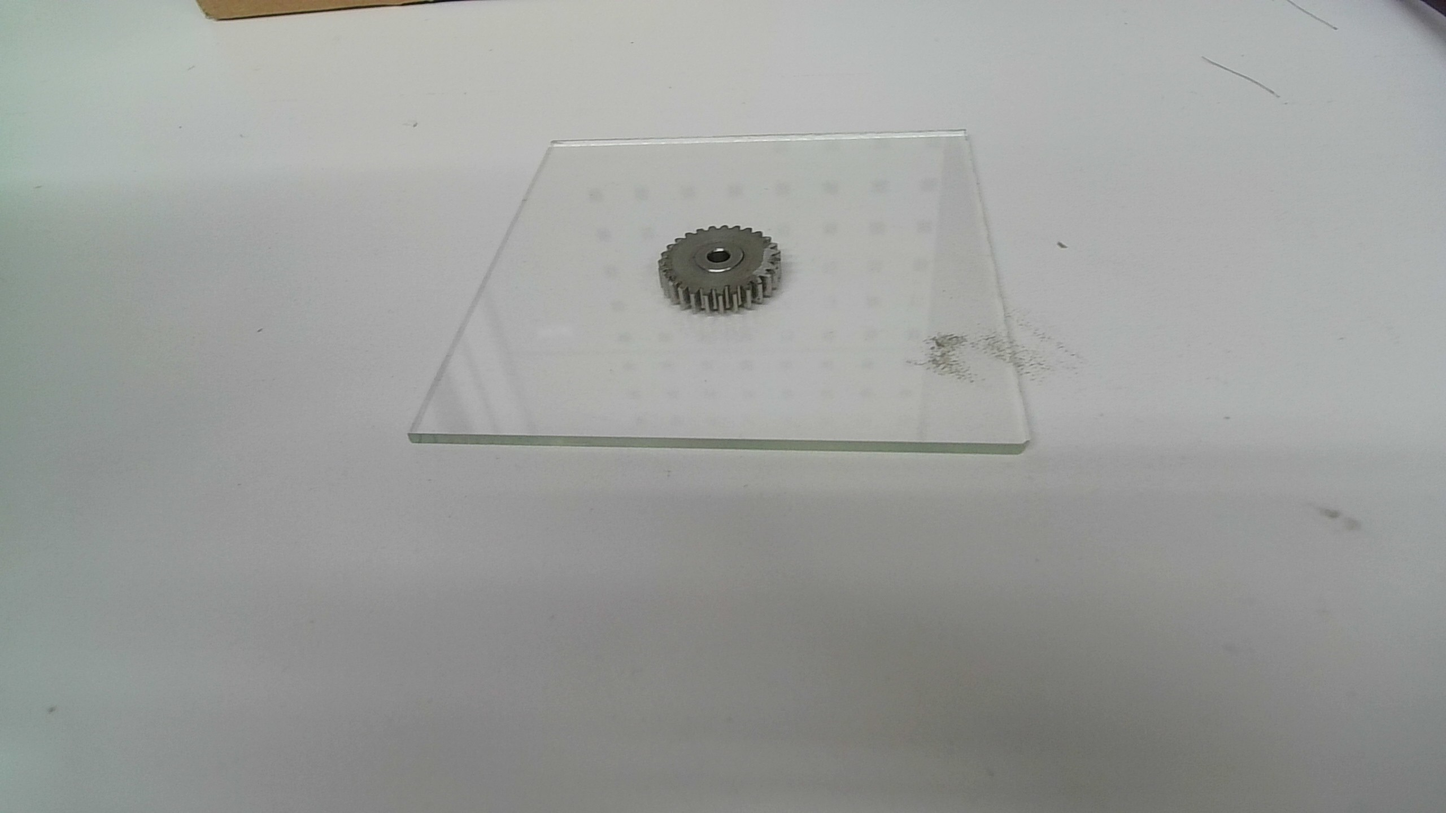gear: (656, 222, 785, 314)
